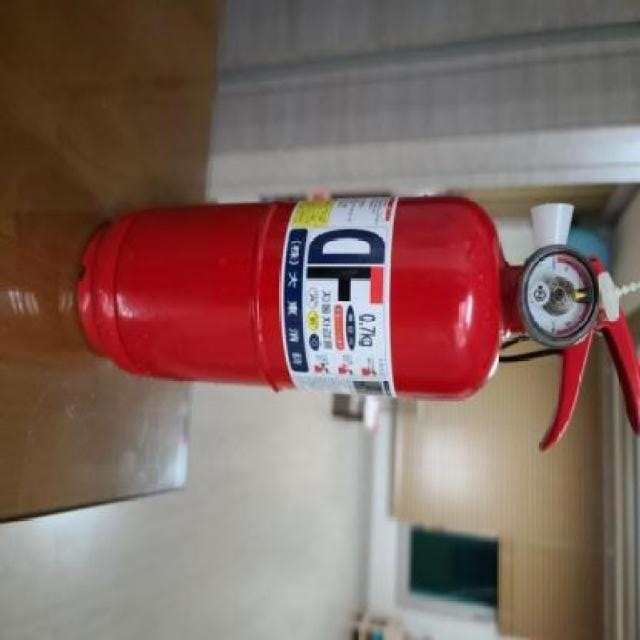fire extinguisher: (77, 194, 640, 451)
